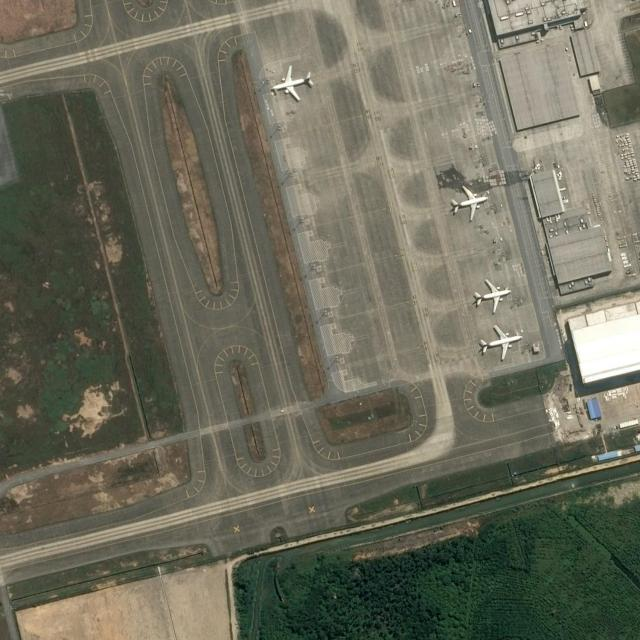Aircraft: (268, 66, 316, 104), (476, 326, 523, 362), (472, 280, 512, 315), (450, 186, 488, 222)
